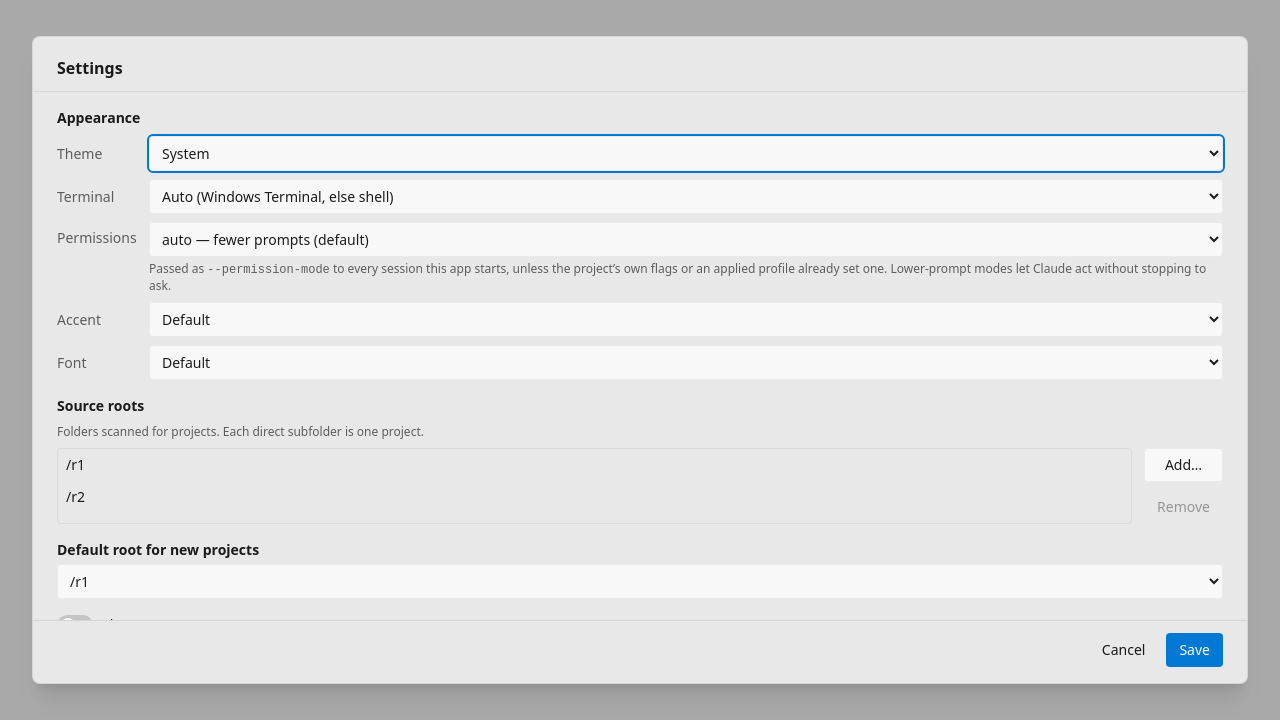
it: SettingsDialog › can remove a root
The width and height of the screenshot is (1280, 720).
select /r2 and remove it (avoids ambiguity with /r1 in default combo)
Click the option "/r2" at (76, 496), box [66,487,85,506]
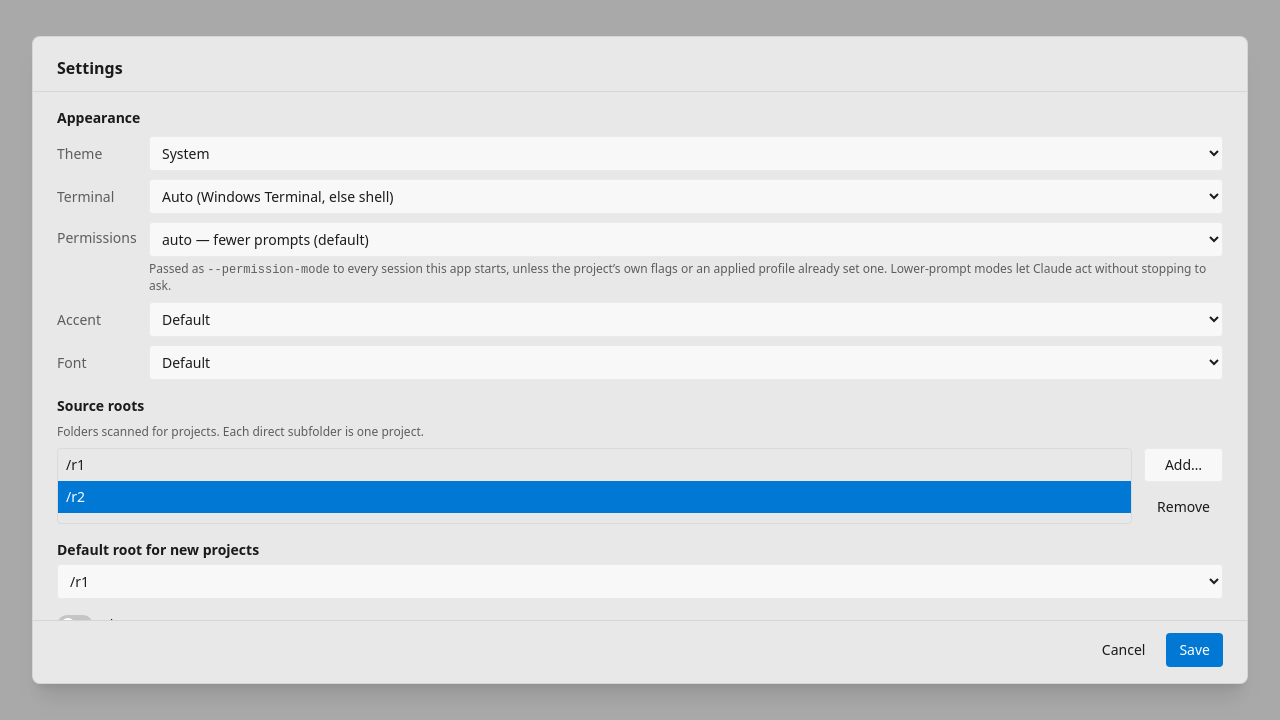
Click the button "Remove" at (1184, 507), box [1144,490,1223,524]
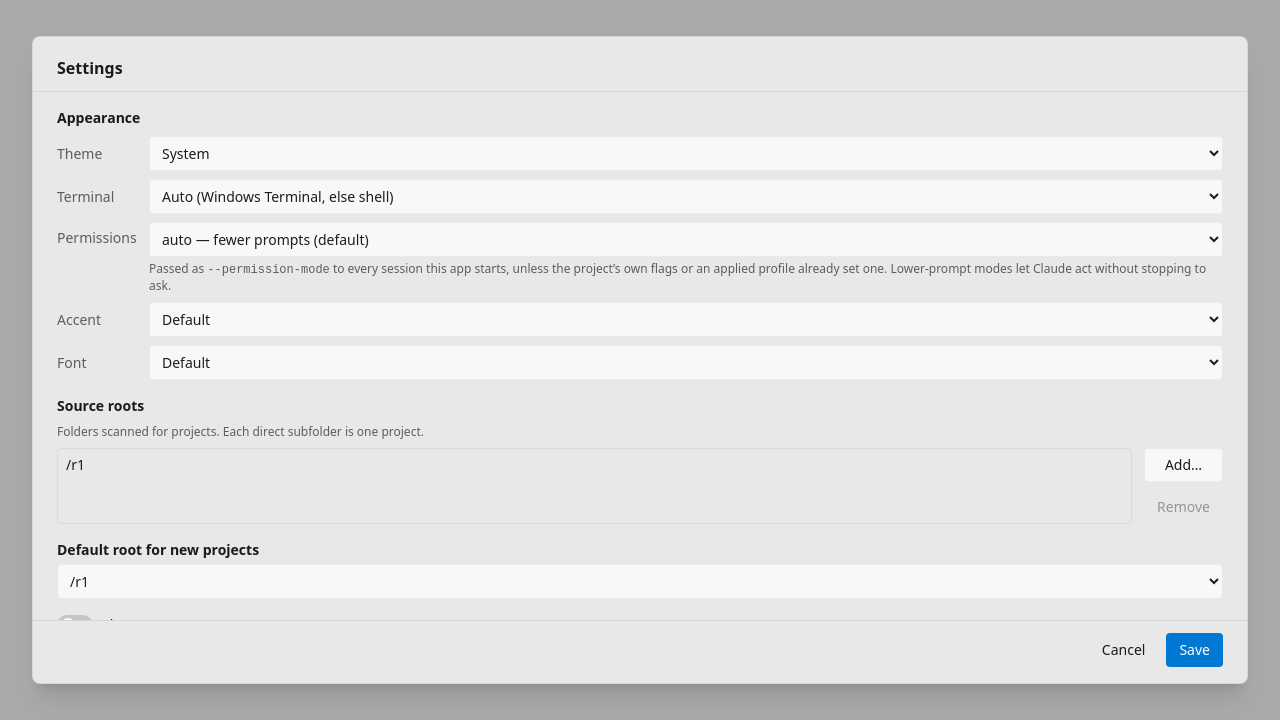
Result: no options "/r2" are shown
